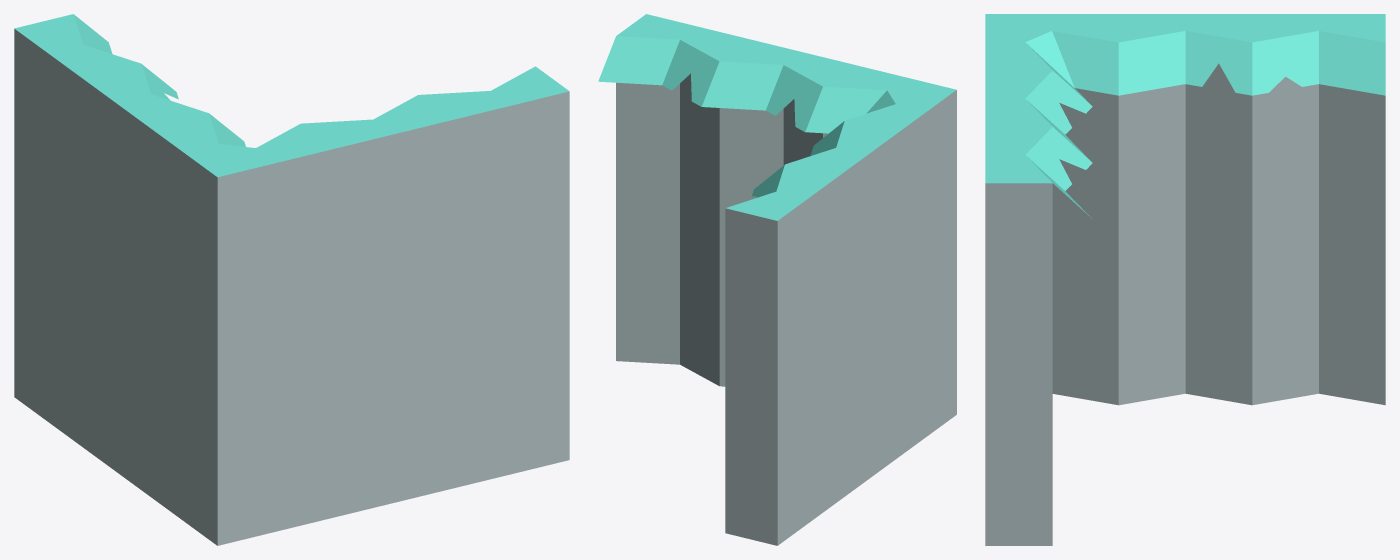
The model's file is cliff_cornerInnerTop_stone.glb.
3 views of the same model, side by side, from view 1: azimuth 30°, elevation 25°; view 2: azimuth 150°, elevation 25°; view 3: azimuth 270°, elevation 25° (orthographic). The views are drawn at different scales.
Parts seen in each view (by area): view 1: cliff_cornerInnerTop_stone; view 2: cliff_cornerInnerTop_stone; view 3: cliff_cornerInnerTop_stone.
Boxes of the visible parts, x1,y1,x2,y2 form: cliff_cornerInnerTop_stone: [14, 14, 569, 545]; cliff_cornerInnerTop_stone: [598, 14, 956, 545]; cliff_cornerInnerTop_stone: [985, 14, 1385, 545].
Bounding box in the file's own units: 1 × 1 × 1.
